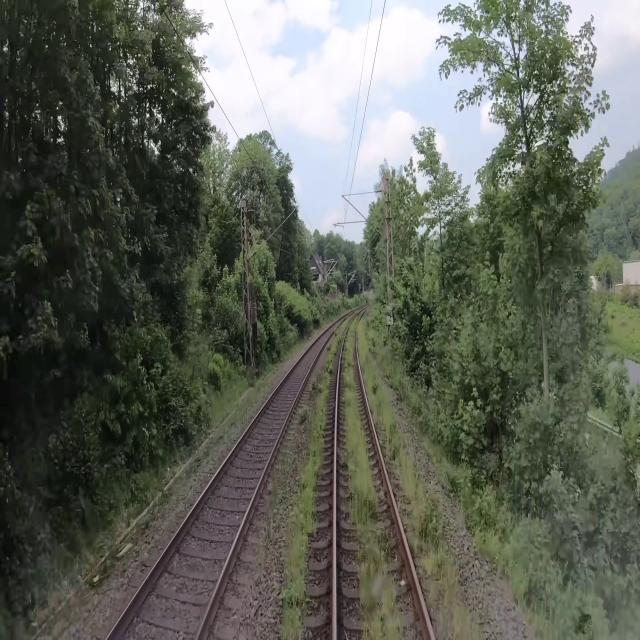Plant: (357, 315, 487, 639), (282, 316, 351, 639), (341, 316, 402, 639)
